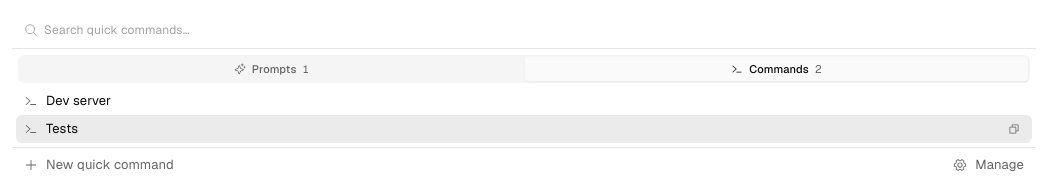
ActionRunList › shows each Action's title, one type at a time, starting on the run button Action's
Expected: the radio button labelled "Commands" is checked, [525,57,1028,81]
Expected: the radio button labelled "Commands" reads "Commands 2", [525,57,1028,81]
Click the radio button labelled "Prompts": [272, 69] box [20,57,523,81]
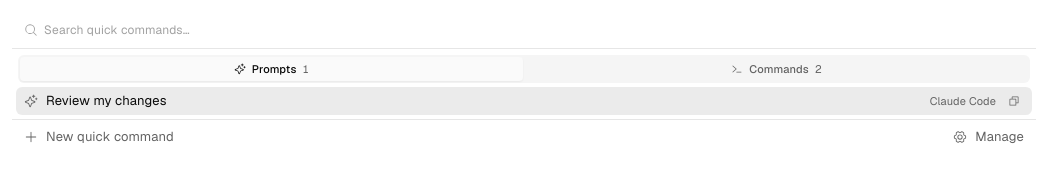
Expected: the option "Review my changes Claude Code" does not show "Review the diff.", [16,87,1032,115]
Expected: the option "Dev server" is gone
Expected: the option "Review my changes Claude Code" is shown, [16,87,1032,115]
